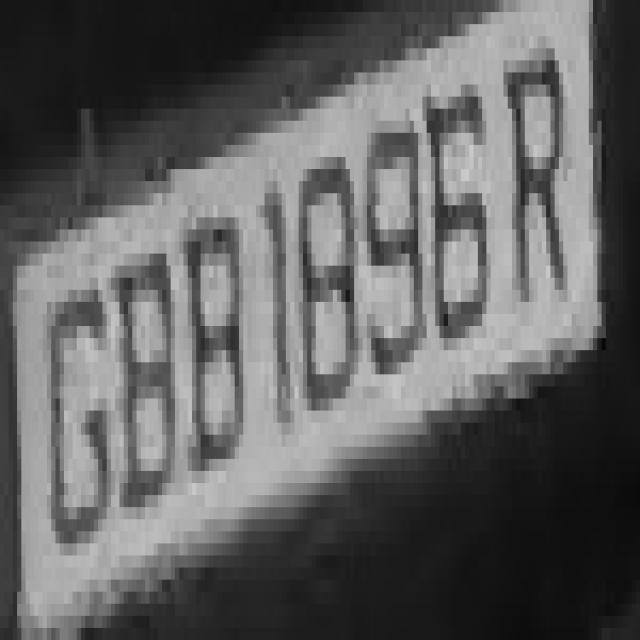1: (264, 145, 298, 471)
6: (422, 37, 491, 374)
8: (290, 133, 359, 435)
9: (358, 96, 427, 398)
B: (188, 206, 256, 544), (111, 218, 183, 532)
G: (39, 242, 120, 568)
R: (499, 24, 585, 302)
